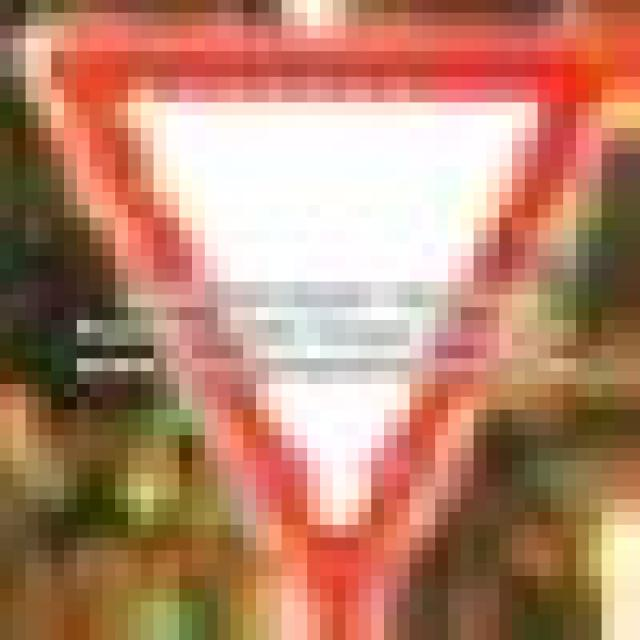gap_in_median: (26, 26, 627, 588)
